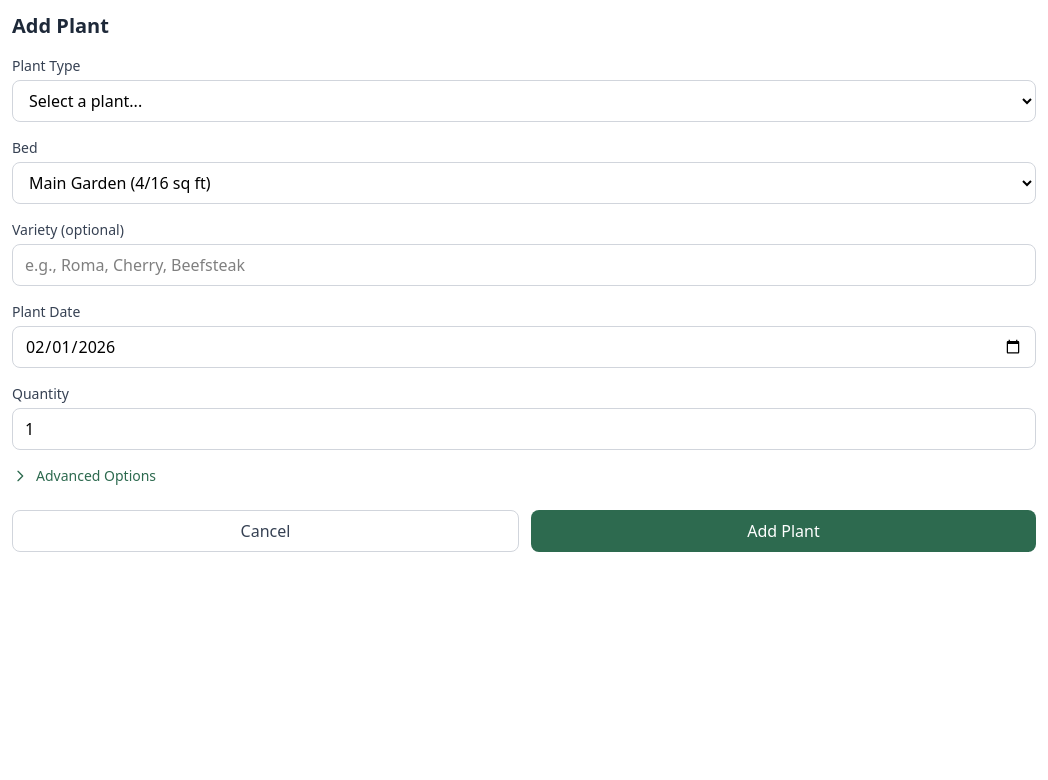
PlantForm › advanced section › shows aria-expanded state
The width and height of the screenshot is (1048, 780).
Click the button "Advanced Options" at x=84, y=476, box [12, 466, 156, 486]
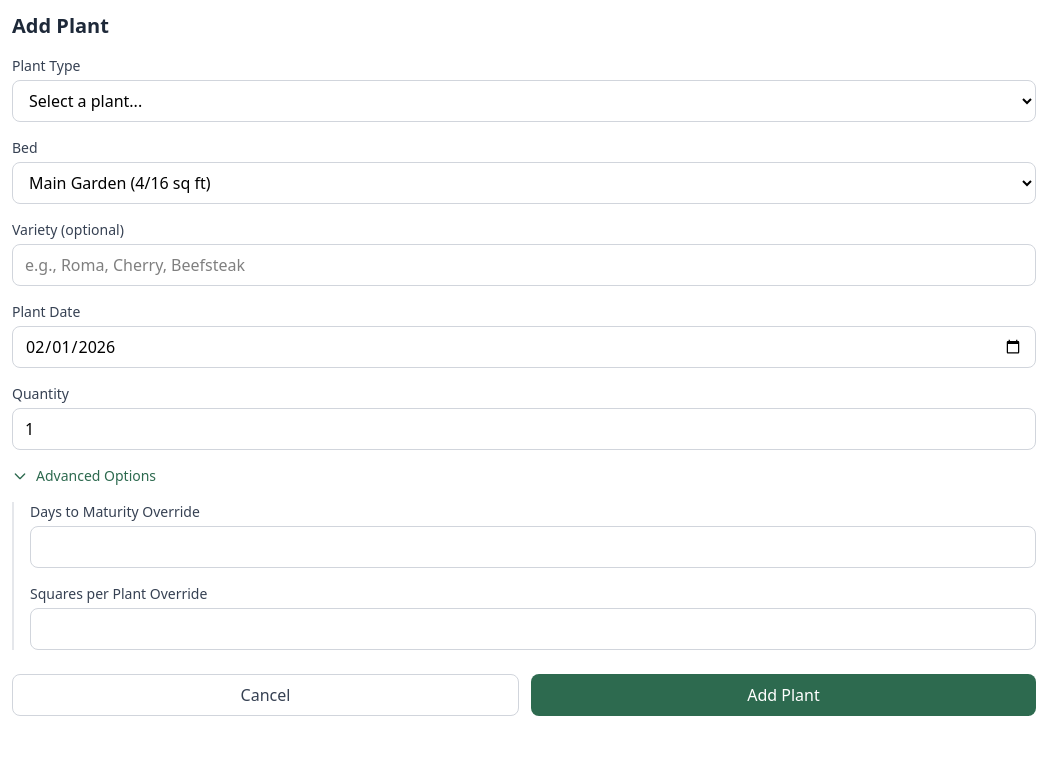
Now the button "Advanced Options" is expanded, box [12, 466, 156, 486]
